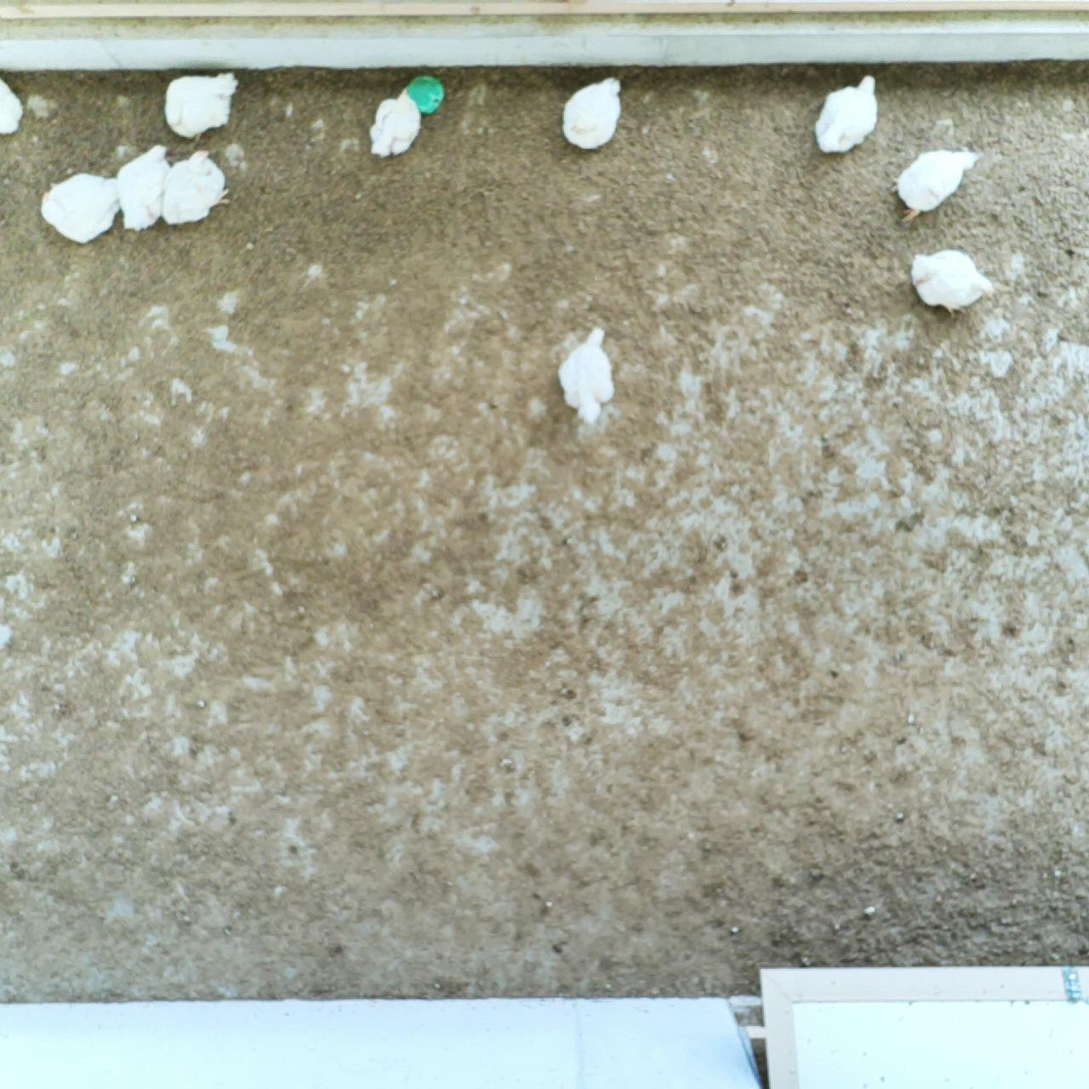chicken: (888, 143, 985, 232), (36, 167, 126, 249), (553, 322, 620, 425), (907, 245, 999, 320), (811, 69, 886, 159), (161, 69, 242, 145), (160, 147, 236, 227), (113, 142, 173, 237), (558, 74, 627, 151), (365, 85, 425, 162), (0, 76, 27, 143)
